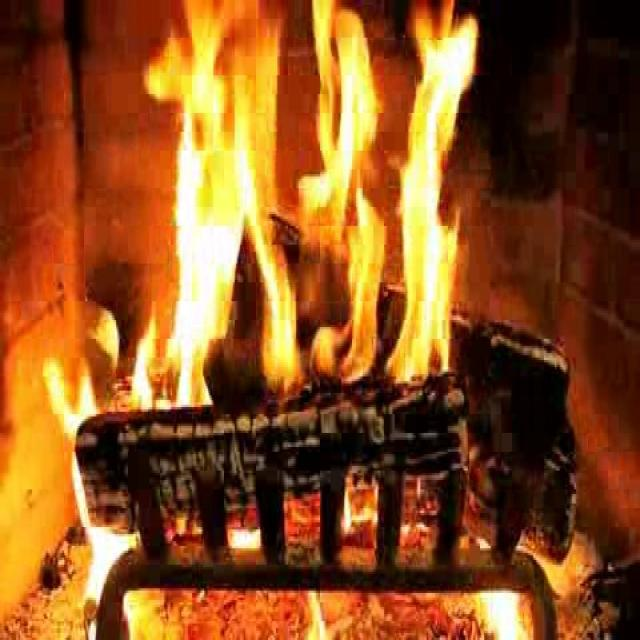fire: (153, 5, 471, 428)
